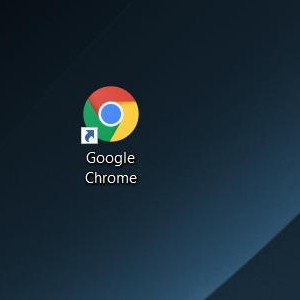chrome: (80, 86, 139, 144)
